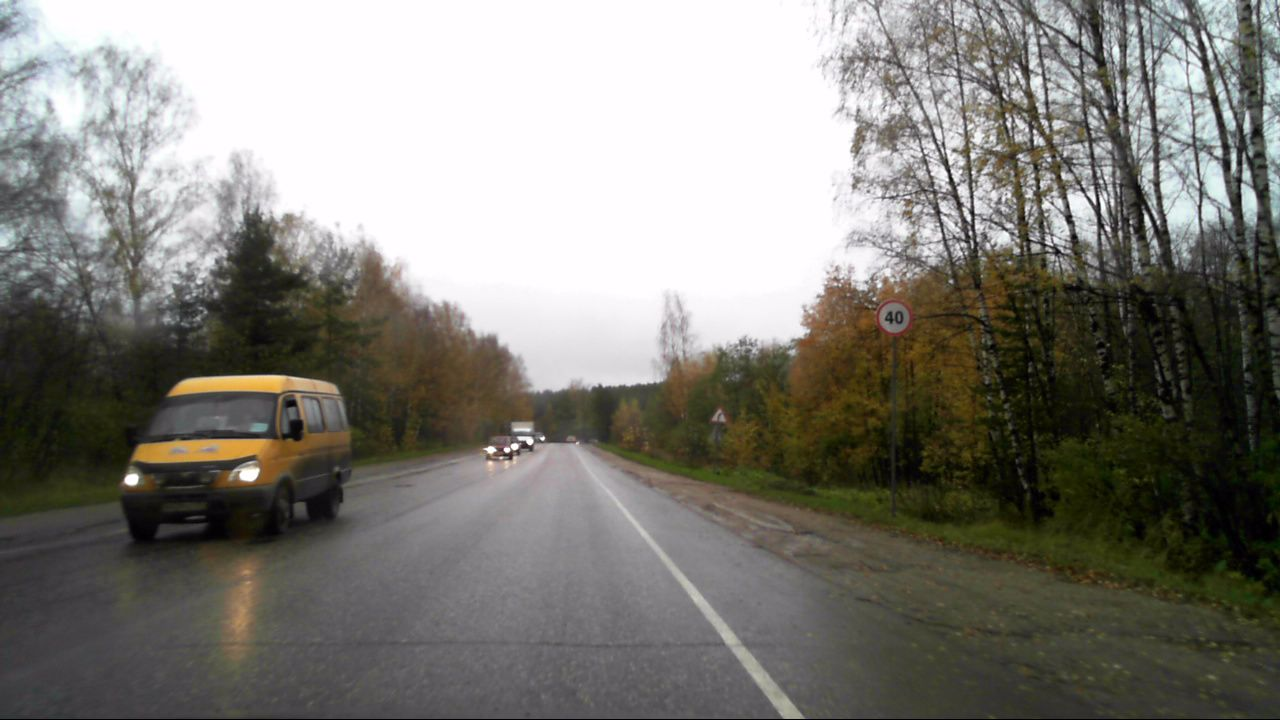speed_warning_40: (874, 298, 913, 337)
